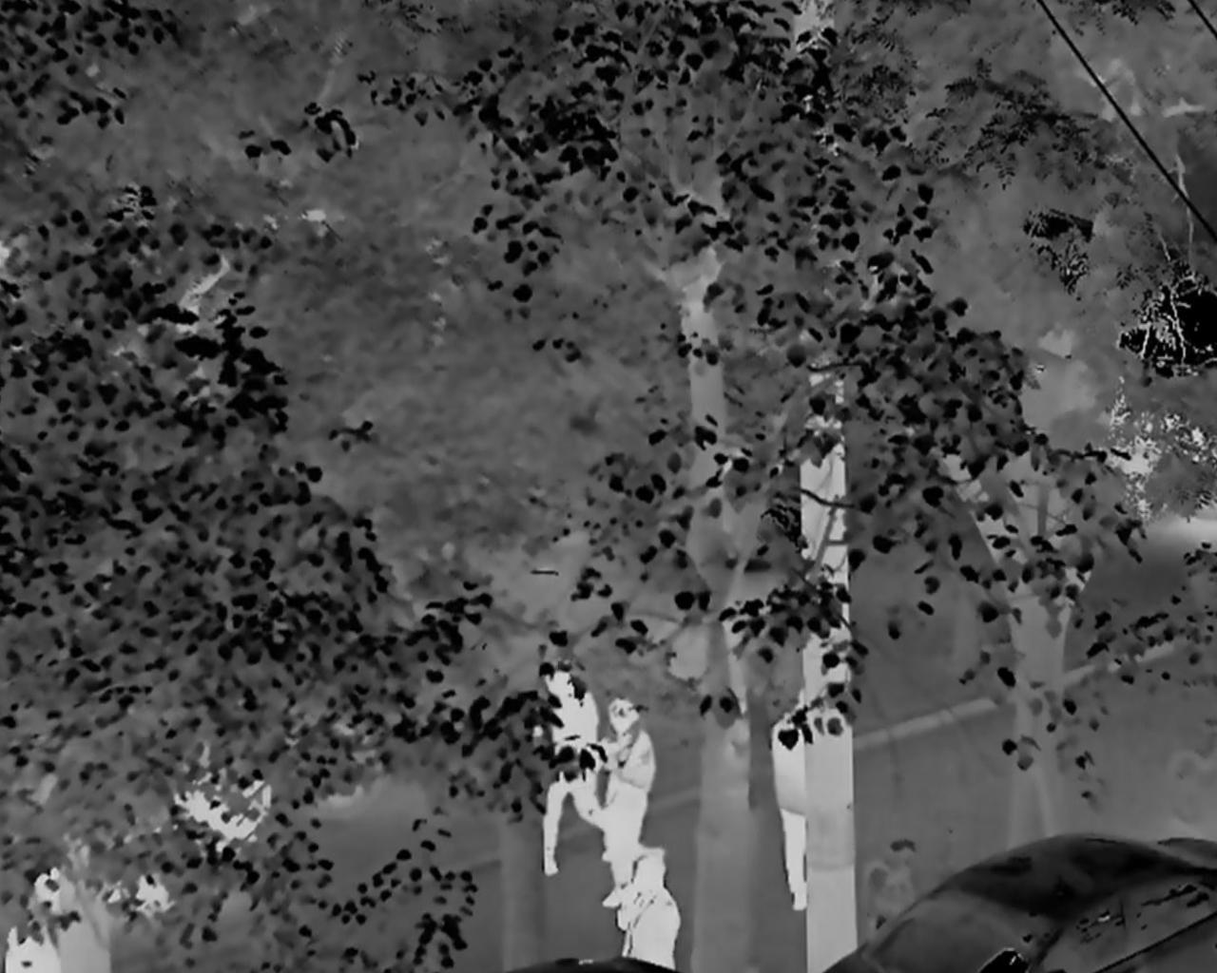person: (534, 657, 603, 880), (593, 699, 658, 912), (773, 689, 812, 916), (614, 860, 682, 973)
